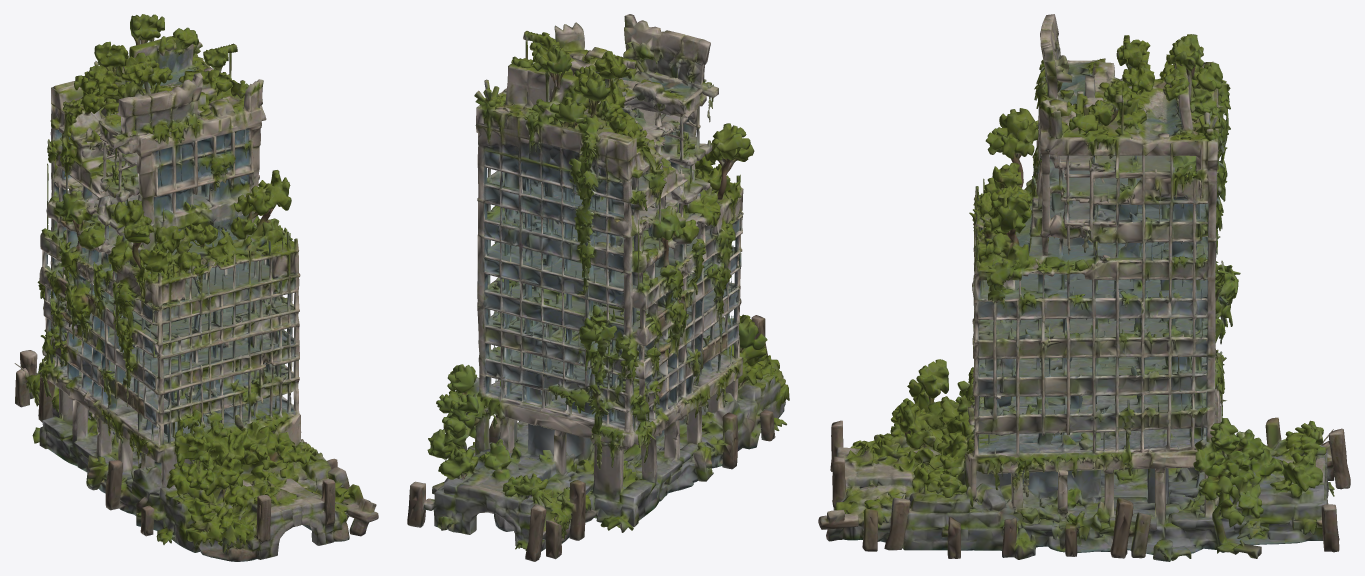
File: cityTowerHi.glb
The picture shows the model from 3 angles, left to right: view 1: azimuth 30°, elevation 25°; view 2: azimuth 150°, elevation 25°; view 3: azimuth 270°, elevation 25°; orthographic projection. The views are drawn at different scales.
Size of the model in its own units: 0.9231 by 1.87 by 1.9.
Materials: 1 (1 with a texture image).
